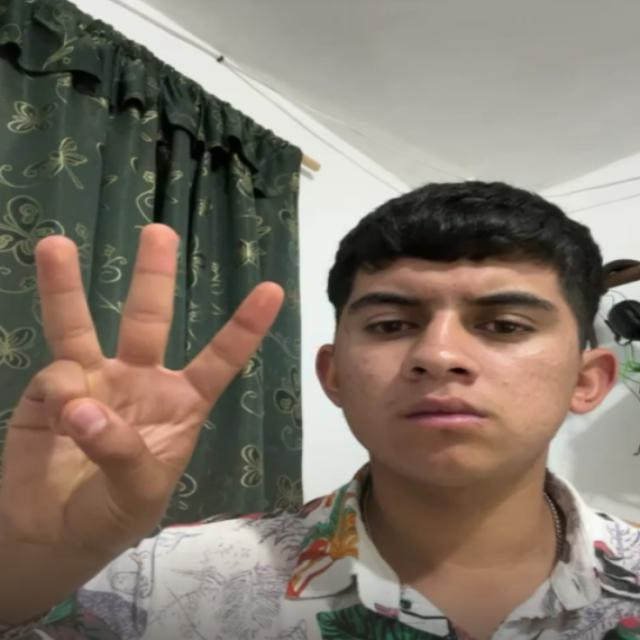W: (0, 209, 312, 562)
